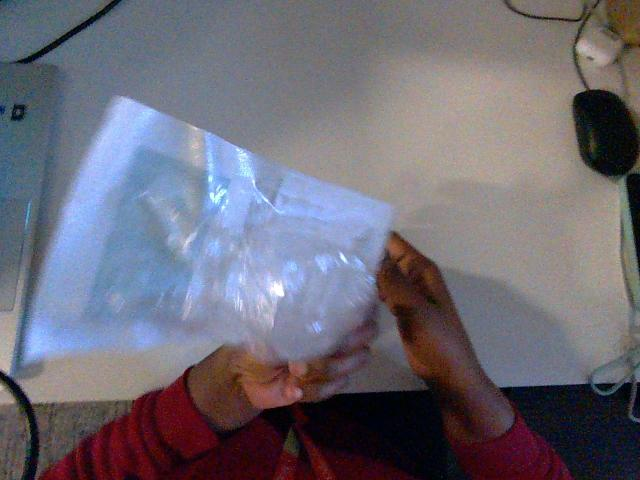gallipot: (22, 98, 392, 362)
